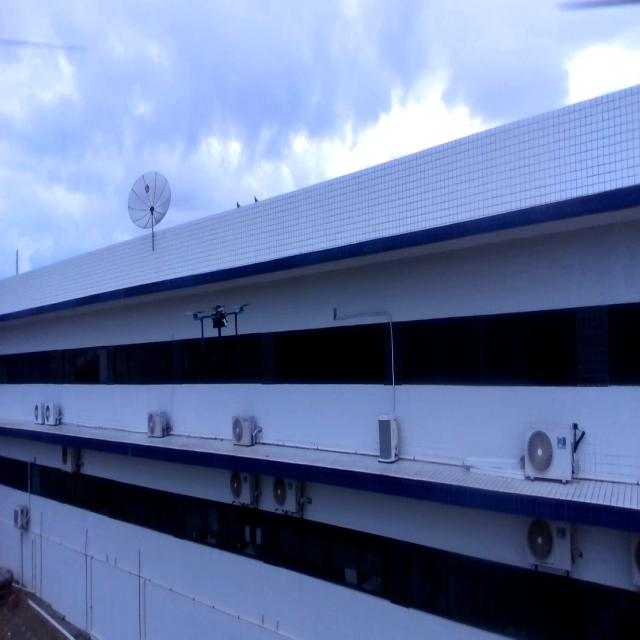-uav-: (176, 296, 256, 357)
